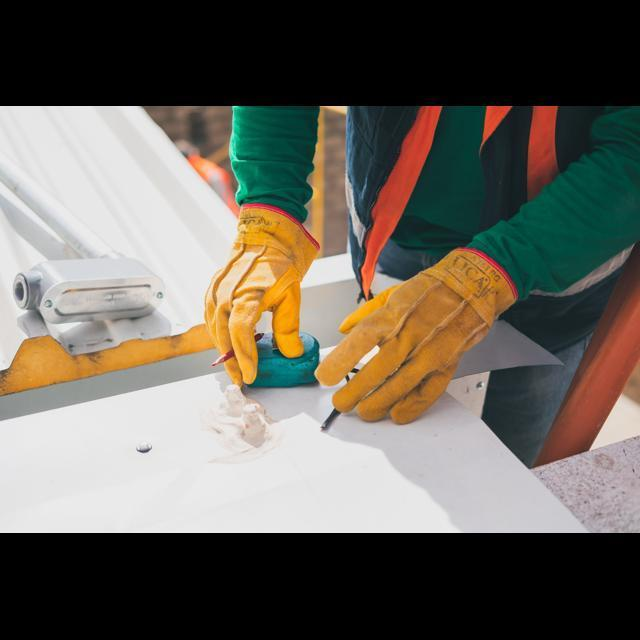Pessoa: (316, 106, 639, 464)
